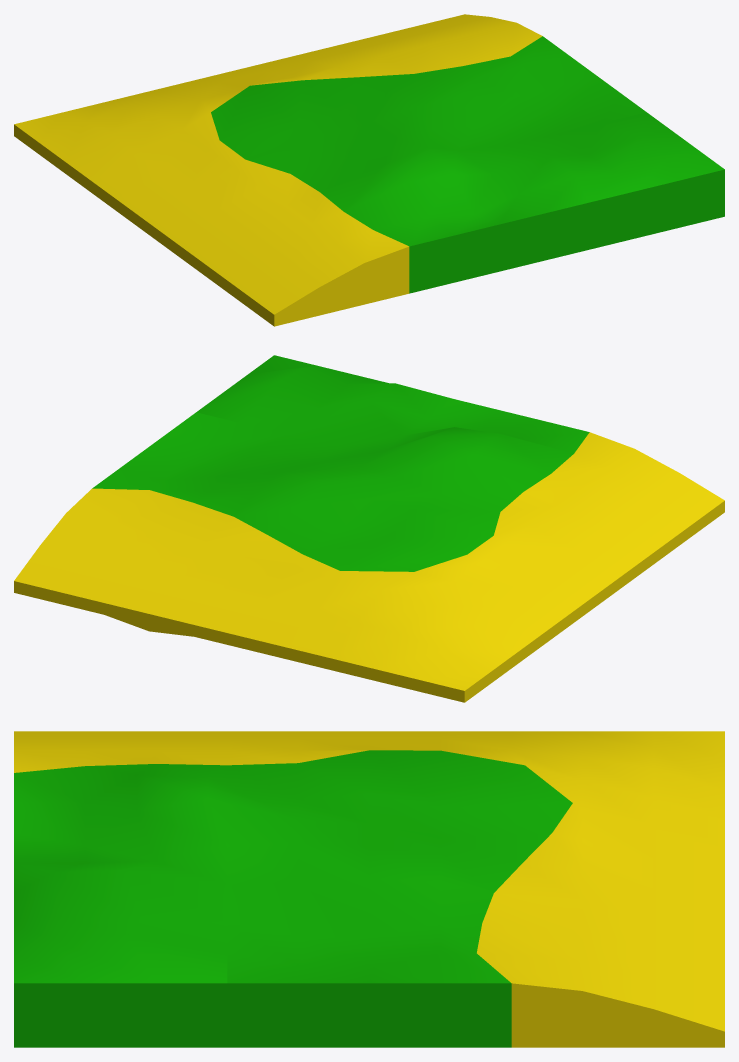
Rendered from island_corner_03.fbx.
The picture shows the model from 3 angles, top to bottom: view 1: azimuth 30°, elevation 25°; view 2: azimuth 150°, elevation 25°; view 3: azimuth 270°, elevation 25°; orthographic projection. The views are drawn at different scales.
Visible parts, largest first — view 1: Box001; view 2: Box001; view 3: Box001.
Boxes of the visible parts, <box> form: Box001: <box>14,14,724,326</box>; Box001: <box>14,355,724,702</box>; Box001: <box>14,731,724,1047</box>.
Bounding box in the file's own units: 400 × 65.98 × 400.
